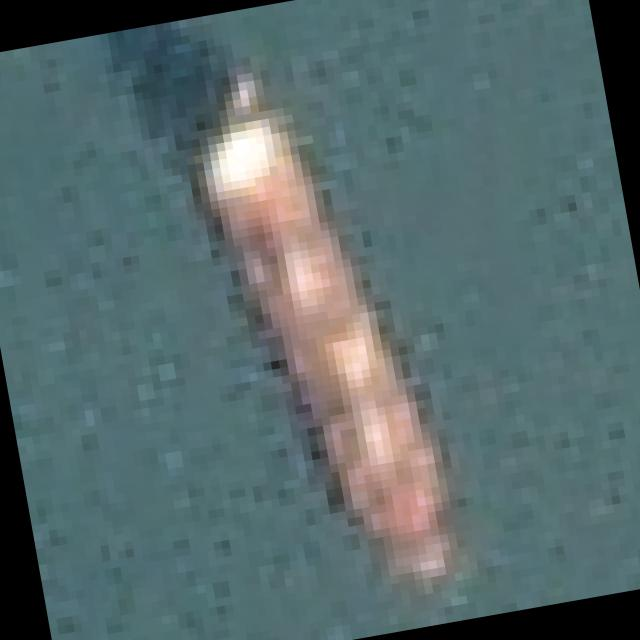ship: (110, 16, 559, 638)
